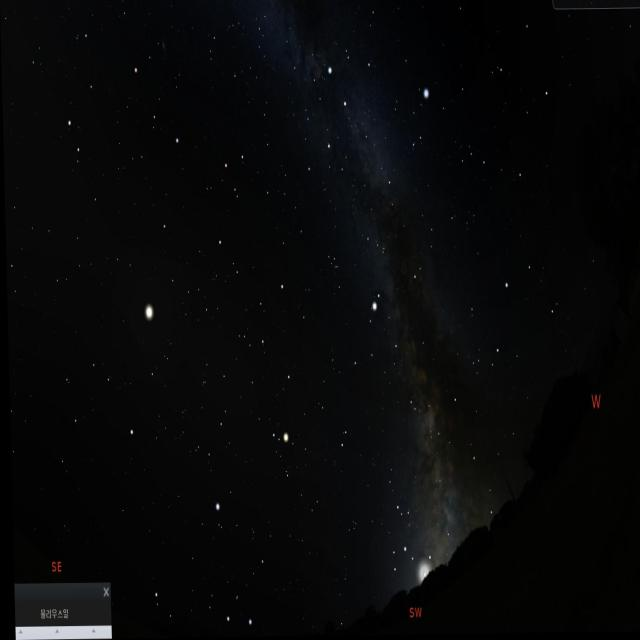aquila: (348, 285, 430, 428)
cygnus: (322, 49, 394, 196)
lyra: (403, 80, 436, 168)
moon: (410, 546, 435, 600)
